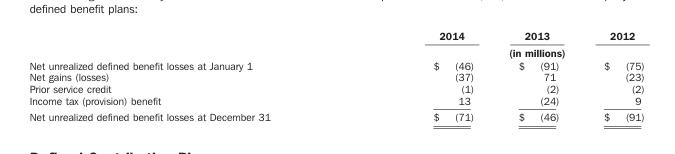table: (28, 28, 643, 122)
table column: (28, 28, 351, 122), (351, 28, 495, 122), (495, 28, 580, 122), (580, 28, 643, 122)
table column header: (28, 28, 643, 58)
table row: (28, 28, 643, 43), (28, 43, 643, 58), (28, 94, 643, 108), (28, 108, 643, 122), (28, 58, 643, 70), (28, 70, 643, 82), (28, 82, 643, 94)
table spanning cell: (351, 43, 643, 58)
